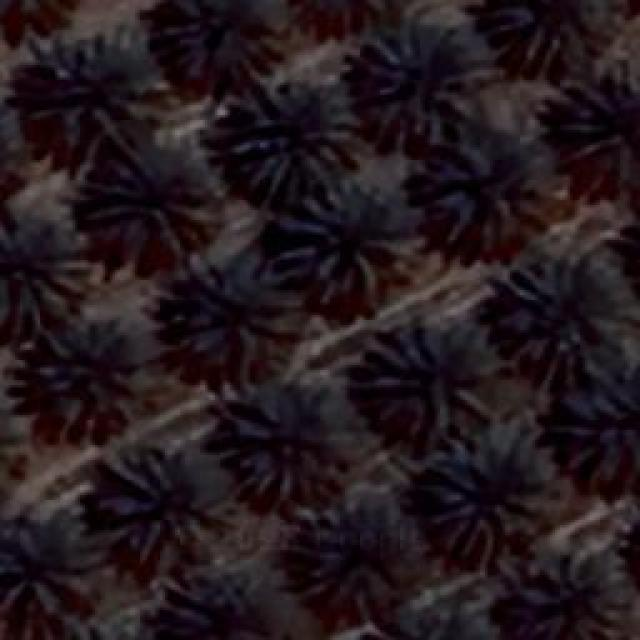PalmTree: (117, 44, 430, 618), (45, 115, 117, 565), (408, 131, 554, 269), (202, 370, 352, 502), (230, 67, 360, 195), (170, 250, 300, 370), (422, 435, 542, 563), (100, 132, 218, 258), (18, 39, 156, 142), (500, 262, 620, 376), (370, 330, 492, 442), (295, 192, 405, 316), (288, 495, 414, 600), (25, 325, 145, 430), (368, 25, 470, 140), (480, 0, 612, 85), (0, 210, 92, 330), (141, 568, 291, 638), (518, 547, 632, 635), (100, 457, 202, 555), (152, 0, 282, 75), (552, 370, 638, 482), (560, 62, 638, 168), (284, 0, 409, 29), (1, 383, 26, 508), (37, 617, 164, 640), (0, 100, 23, 220), (0, 0, 81, 30), (36, 623, 172, 640), (0, 108, 16, 220), (1, 0, 77, 20), (0, 106, 12, 220), (630, 198, 640, 305)
